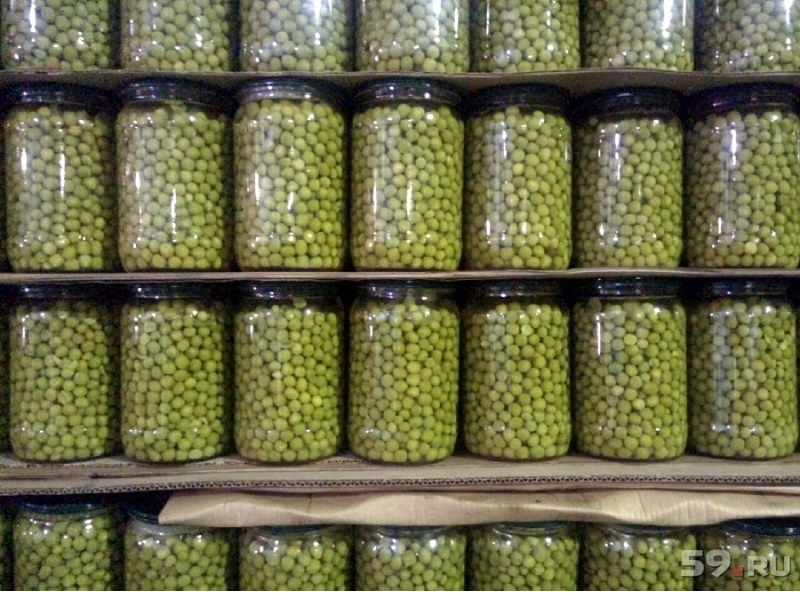peas: (105, 71, 240, 284), (562, 279, 703, 473), (347, 79, 478, 278), (225, 79, 354, 281), (1, 81, 127, 282), (228, 280, 357, 472), (110, 282, 237, 476), (344, 279, 471, 470), (461, 279, 580, 471), (683, 84, 800, 276), (6, 286, 127, 470), (468, 82, 581, 278), (578, 83, 693, 274), (688, 276, 798, 465)
